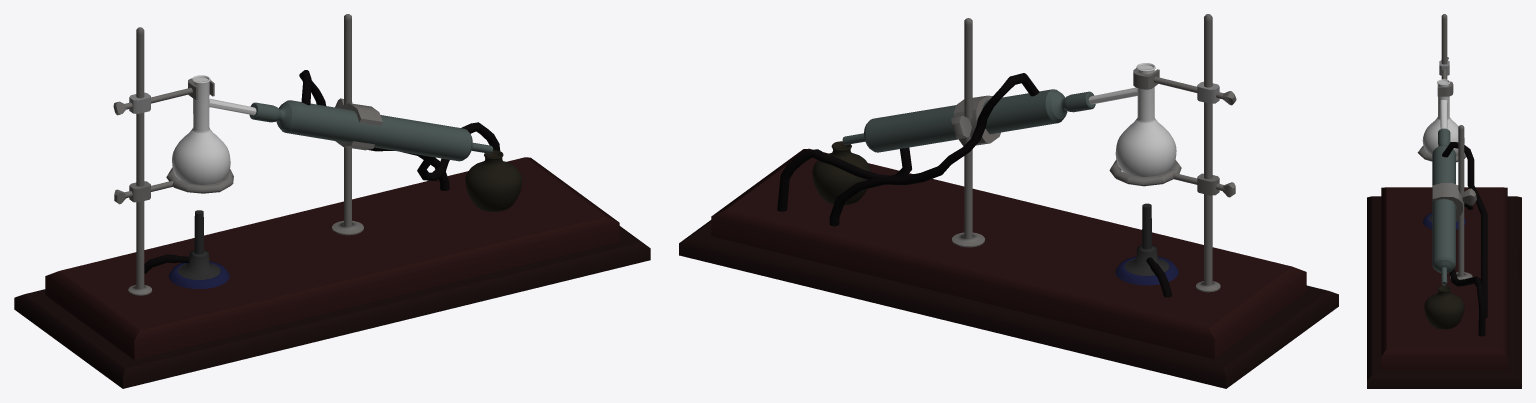
The model's file is Burner.obj.
3 renders of one model, left to right at view 1: azimuth 30°, elevation 25°; view 2: azimuth 150°, elevation 25°; view 3: azimuth 270°, elevation 25°, orthographic. The views are drawn at different scales.
Visible parts, largest first — view 1: Burner BaseTop Base, Burner Base Base, Burner Filter Filtration, Bottle Burner, Burner Catcher, Burner Stand LeftStand, Burner Stand2 RightStand, Burner BurnerTop Burner, Burner Filtration WireRight, Burner Filtration WireLeft, Burner Burner BurnerBase, Burner RightStand pCube7 Grip (+1 smaller); view 2: Burner BaseTop Base, Burner Base Base, Burner Filter Filtration, Bottle Burner, Burner Filtration WireLeft, Burner Stand LeftStand, Burner Stand2 RightStand, Burner Catcher, Burner Filtration WireRight, Burner BurnerTop Burner, Burner LeftStand StandBot pCube6, Burner Burner BurnerBase (+1 smaller); view 3: Burner BaseTop Base, Burner Base Base, Burner Filter Filtration, Burner Catcher, Burner Filtration WireLeft, Bottle Burner, Burner Stand2 RightStand, Burner Filtration WireRight, Burner RightStand pCube7 Grip, Burner Stand LeftStand, Burner RightStand Grip pCube8, Burner LeftStand StandTop pCube5 (+2 smaller).
Boxes of the visible parts, x1,y1,x2,y2 form: Burner BaseTop Base: (45, 157, 619, 359); Burner Base Base: (14, 226, 650, 388); Burner Filter Filtration: (249, 100, 493, 161); Bottle Burner: (172, 75, 256, 184); Burner Catcher: (465, 150, 521, 211); Burner Stand LeftStand: (128, 27, 152, 295); Burner Stand2 RightStand: (332, 14, 363, 235); Burner BurnerTop Burner: (178, 210, 220, 279); Burner Filtration WireRight: (417, 122, 500, 180); Burner Filtration WireLeft: (299, 70, 449, 190); Burner Burner BurnerBase: (169, 261, 229, 289); Burner RightStand pCube7 Grip: (335, 103, 382, 150); Burner BaseTop Base: (711, 148, 1306, 358); Burner Base Base: (679, 220, 1338, 388); Burner Filter Filtration: (842, 89, 1095, 152); Bottle Burner: (1088, 63, 1176, 177); Burner Filtration WireLeft: (829, 73, 1039, 226); Burner Stand LeftStand: (1196, 14, 1220, 292); Burner Stand2 RightStand: (952, 18, 984, 247); Burner Catcher: (812, 141, 871, 205); Burner Filtration WireRight: (777, 147, 911, 211); Burner BurnerTop Burner: (1124, 203, 1169, 275); Burner LeftStand StandBot pCube6: (1109, 159, 1181, 186); Burner Burner BurnerBase: (1115, 256, 1178, 285); Burner BaseTop Base: (1381, 187, 1507, 369); Burner Base Base: (1367, 196, 1521, 388); Burner Filter Filtration: (1432, 128, 1455, 285); Burner Catcher: (1424, 285, 1464, 329); Burner Filtration WireLeft: (1442, 142, 1487, 317); Bottle Burner: (1422, 79, 1464, 155); Burner Stand2 RightStand: (1450, 125, 1472, 279); Burner Filtration WireRight: (1449, 269, 1485, 336); Burner RightStand pCube7 Grip: (1432, 183, 1462, 217); Burner Stand LeftStand: (1441, 14, 1447, 79); Burner RightStand Grip pCube8: (1462, 188, 1476, 205); Burner LeftStand StandTop pCube5: (1437, 81, 1453, 96).
Bounding box in the file's own units: 13.78 × 7.59 × 4.91.
